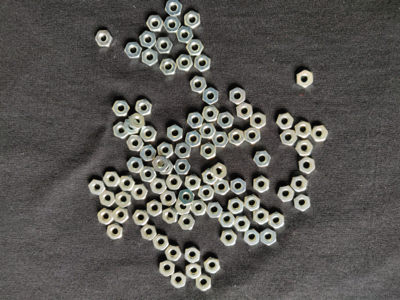nut: (155, 37, 174, 55), (184, 10, 201, 30), (295, 121, 313, 139), (176, 26, 194, 44), (176, 54, 194, 72), (160, 58, 178, 76), (95, 30, 113, 48), (297, 69, 314, 88), (124, 42, 143, 59), (294, 194, 311, 212), (280, 129, 298, 146), (276, 113, 294, 130), (236, 102, 253, 120), (202, 105, 220, 122), (190, 76, 207, 94), (164, 16, 181, 34), (140, 31, 157, 49), (142, 49, 159, 67), (153, 234, 170, 252), (150, 178, 168, 195), (139, 166, 157, 183), (131, 184, 149, 201), (127, 157, 145, 174), (127, 135, 145, 152), (135, 99, 153, 116), (129, 113, 146, 131), (122, 119, 140, 136), (88, 179, 106, 196), (112, 101, 131, 117), (299, 157, 316, 174), (291, 176, 308, 193), (278, 186, 295, 203), (217, 112, 234, 129), (147, 15, 164, 32), (212, 131, 229, 148), (187, 112, 204, 129), (185, 131, 202, 148), (175, 142, 192, 159), (185, 174, 202, 191), (178, 190, 195, 207), (140, 224, 157, 241), (165, 245, 182, 262), (157, 142, 174, 159), (140, 145, 157, 162), (107, 223, 124, 240), (99, 190, 116, 207), (311, 126, 329, 142), (296, 140, 314, 156), (230, 87, 246, 105), (245, 127, 261, 145), (269, 211, 285, 229), (261, 228, 277, 246), (229, 128, 245, 146), (203, 87, 219, 105), (195, 54, 211, 72), (186, 40, 204, 56), (165, 1, 183, 17), (218, 212, 236, 228), (211, 163, 227, 181), (206, 202, 224, 218), (132, 210, 150, 226), (196, 274, 212, 292), (160, 191, 178, 207), (152, 156, 170, 172), (118, 176, 136, 192), (103, 171, 121, 187), (250, 112, 266, 129), (254, 151, 271, 167), (254, 176, 270, 193), (253, 208, 269, 225), (245, 195, 261, 212), (244, 229, 260, 246), (234, 216, 251, 232), (231, 178, 247, 195), (228, 198, 244, 215), (221, 230, 237, 247), (200, 123, 217, 139), (201, 143, 217, 160), (202, 169, 218, 186), (198, 185, 215, 201), (174, 159, 191, 175), (179, 215, 196, 231), (163, 207, 179, 224), (147, 200, 163, 217), (160, 260, 176, 277), (171, 272, 187, 289), (185, 247, 201, 264), (186, 263, 202, 280), (204, 258, 221, 274), (140, 126, 157, 142), (116, 192, 132, 209), (113, 207, 129, 224), (98, 208, 114, 225), (214, 180, 230, 196), (191, 200, 207, 216), (175, 199, 191, 215), (168, 125, 183, 142), (166, 175, 183, 190), (114, 122, 129, 139), (159, 159, 174, 175)
